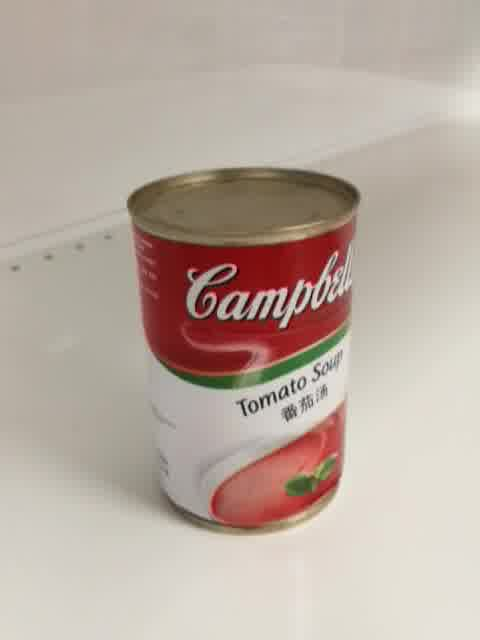tomatosoup: (123, 162, 363, 539)
